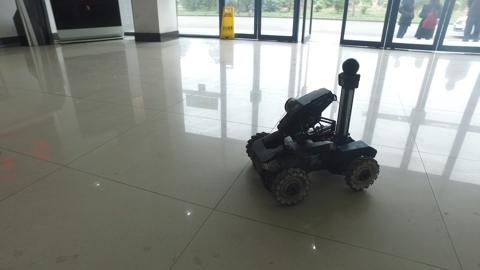chariot: (245, 56, 380, 206)
